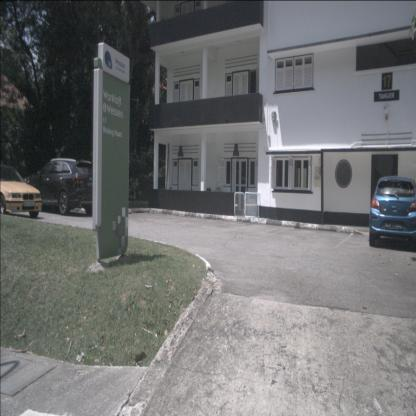vehicle-car: (26, 158, 96, 215), (369, 176, 416, 248), (0, 166, 42, 218)
